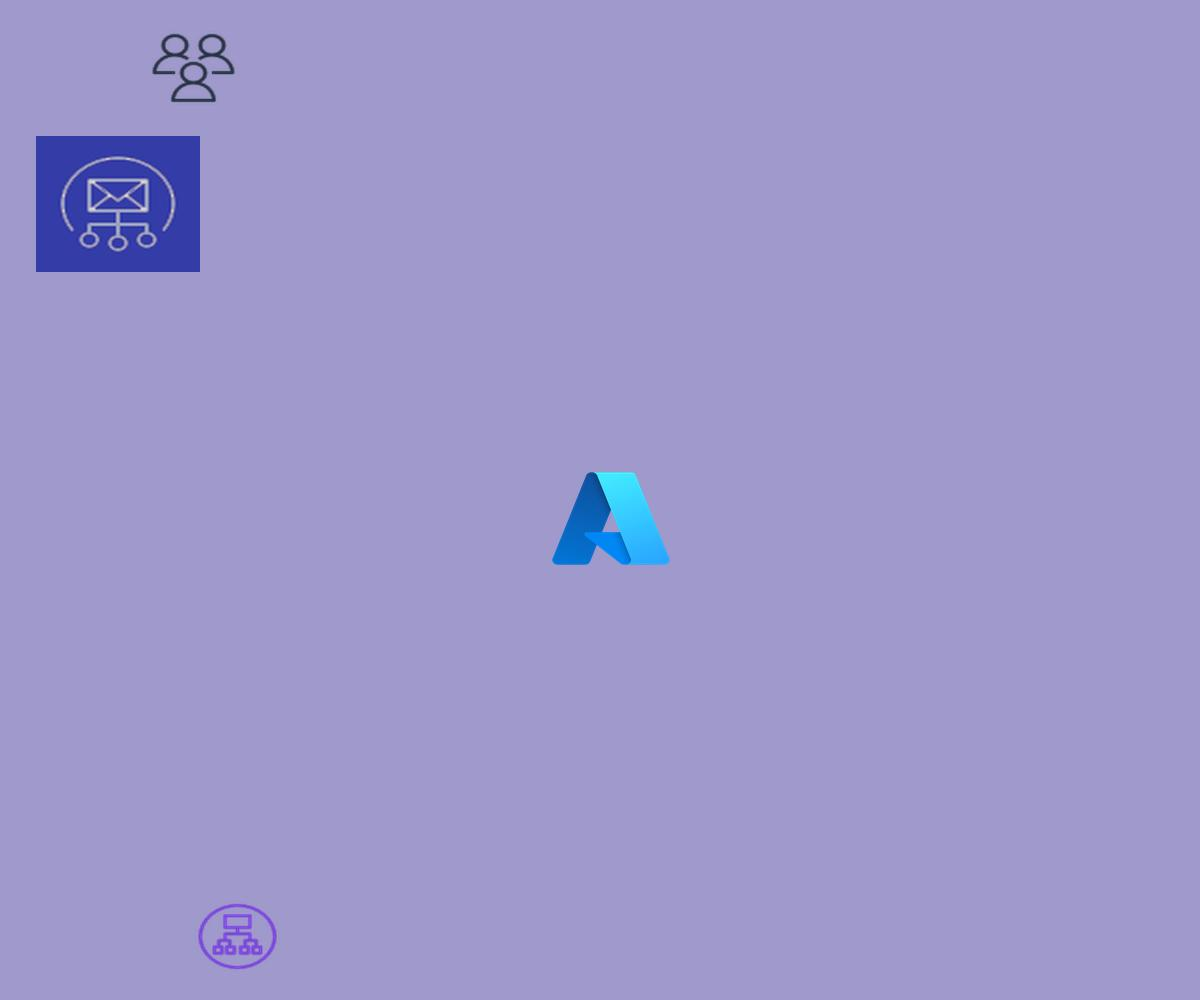AWS-Res_Elastic-Load-Balancing_Application-Load-Balancer: (195, 901, 280, 972)
AWS-Res_Users: (149, 31, 238, 105)
AWS-Simple-Email-Service: (36, 136, 200, 272)
Azure_services: (547, 465, 675, 572)
